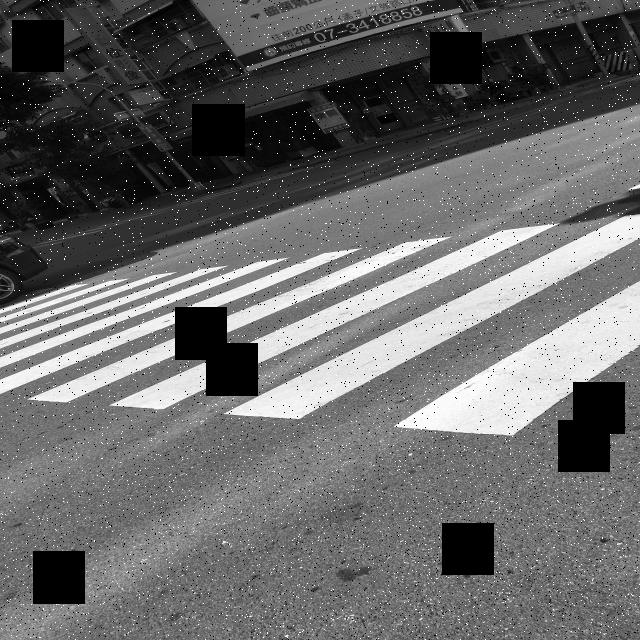zebra crossing: (0, 215, 640, 439)
